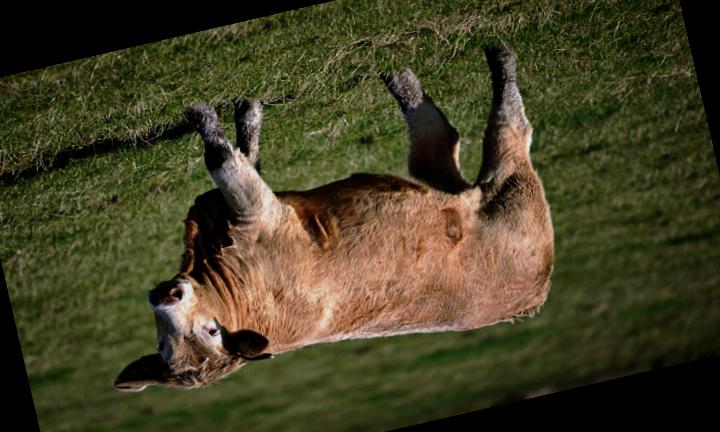Charolais: (115, 46, 555, 391)
